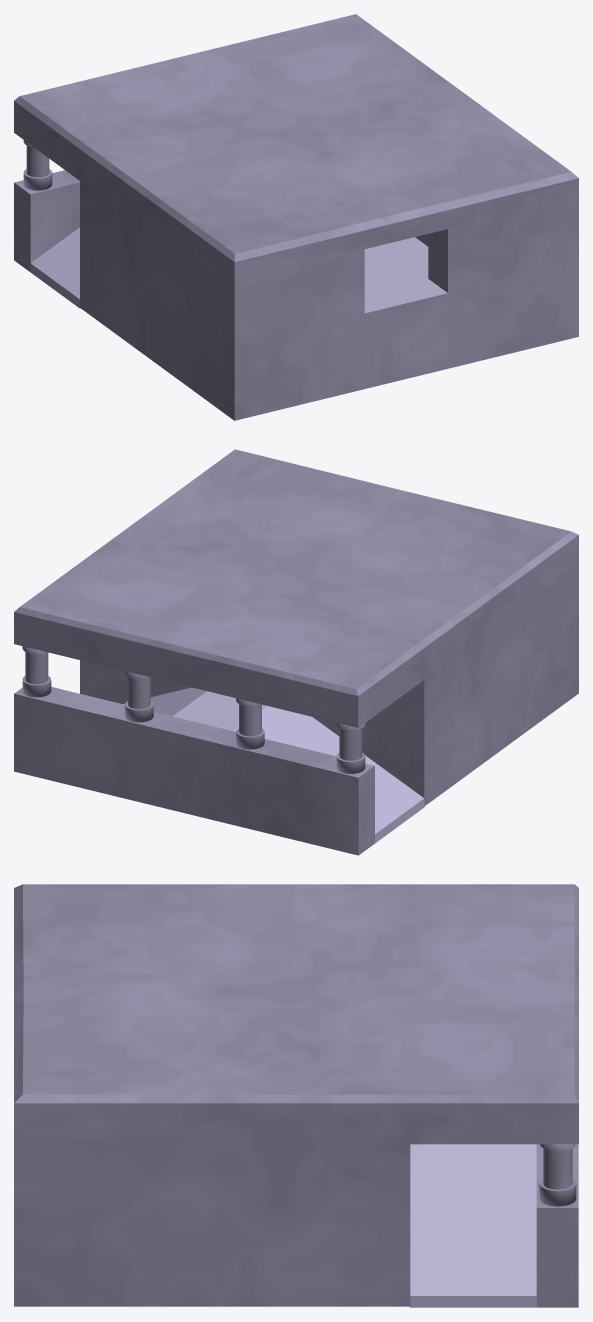
File: Level1End.fbx
The picture shows the model from 3 angles, top to bottom: view 1: azimuth 30°, elevation 25°; view 2: azimuth 150°, elevation 25°; view 3: azimuth 270°, elevation 25°; orthographic projection. The views are drawn at different scales.
Parts seen in each view (by area): view 1: Level1End, Level1End_Wall, Level1End_Ramp, Level1End_Pillars; view 2: Level1End, Level1End_Wall, Level1End_Ramp, Level1End_Pillars; view 3: Level1End, Level1End_Ramp, Level1End_Wall, Level1End_Pillars.
Part boxes in pixels (bbox=[...]): Level1End: bbox=[14, 14, 578, 420]; Level1End_Wall: bbox=[14, 170, 79, 271]; Level1End_Ramp: bbox=[30, 227, 80, 308]; Level1End_Pillars: bbox=[23, 140, 52, 190]; Level1End: bbox=[14, 449, 578, 805]; Level1End_Wall: bbox=[14, 687, 374, 855]; Level1End_Ramp: bbox=[123, 687, 424, 843]; Level1End_Pillars: bbox=[22, 646, 365, 773]; Level1End: bbox=[14, 884, 578, 1306]; Level1End_Ramp: bbox=[409, 1144, 536, 1307]; Level1End_Wall: bbox=[536, 1144, 578, 1307]; Level1End_Pillars: bbox=[539, 1144, 576, 1206].
Size of the model in its own units: 2753 by 1256 by 3053.
